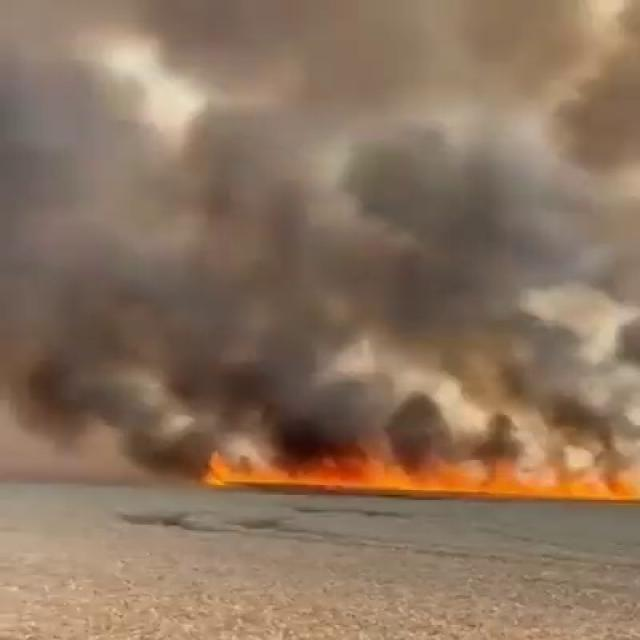Fire: (197, 436, 640, 508)
Smoke: (0, 0, 211, 64)
